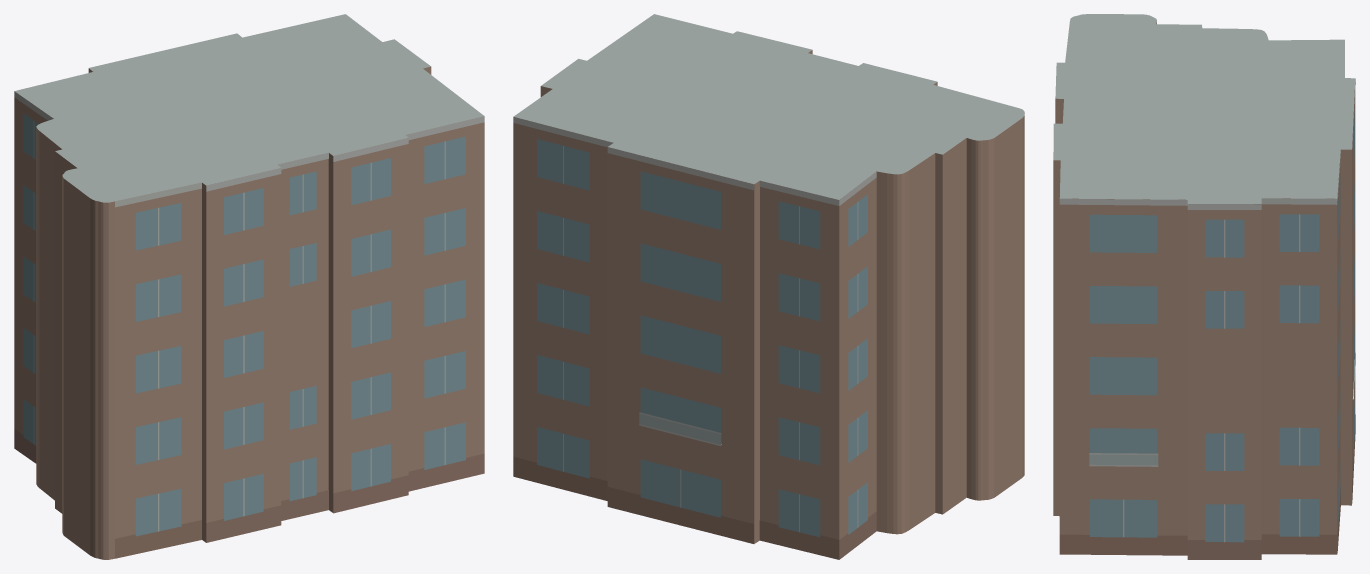
File: survey-upis-32738517.glb
The picture shows the model from 3 angles, left to right: view 1: azimuth 30°, elevation 25°; view 2: azimuth 150°, elevation 25°; view 3: azimuth 270°, elevation 25°; orthographic projection.
Visible parts, largest first — view 1: survey-upis-32738517.tmp; view 2: survey-upis-32738517.tmp; view 3: survey-upis-32738517.tmp.
Boxes of the visible parts, box(x1,y1,x2,y2) form: survey-upis-32738517.tmp: box(14, 14, 484, 559); survey-upis-32738517.tmp: box(513, 14, 1024, 559); survey-upis-32738517.tmp: box(1053, 14, 1355, 559).
Size of the model in its own units: 16.51 by 14.4 by 11.09.
